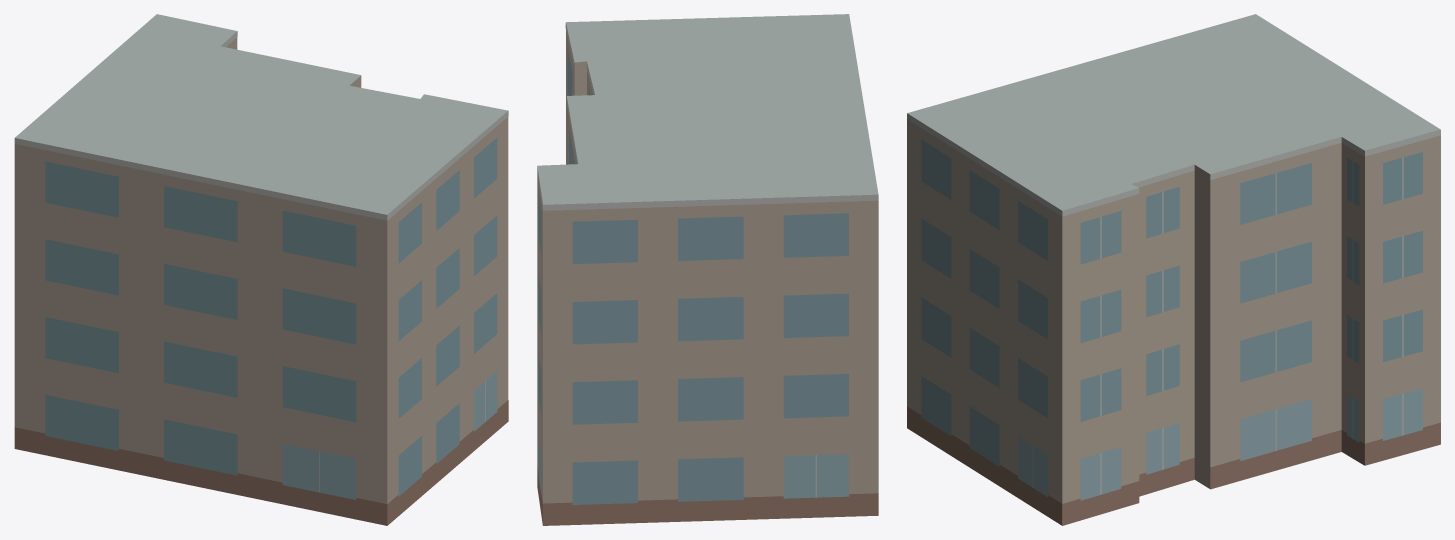
File: survey-upis-32581721.glb
3 views of the same model, side by side, from view 1: azimuth 30°, elevation 25°; view 2: azimuth 150°, elevation 25°; view 3: azimuth 270°, elevation 25° (orthographic). The views are drawn at different scales.
Parts seen in each view (by area): view 1: survey-upis-32581721.tmp; view 2: survey-upis-32581721.tmp; view 3: survey-upis-32581721.tmp.
Boxes of the visible parts, <box> form: survey-upis-32581721.tmp: <box>14,14,508,525</box>; survey-upis-32581721.tmp: <box>537,14,878,525</box>; survey-upis-32581721.tmp: <box>907,14,1440,525</box>.
Bounding box in the file's own units: 17.57 × 13.1 × 20.13.
